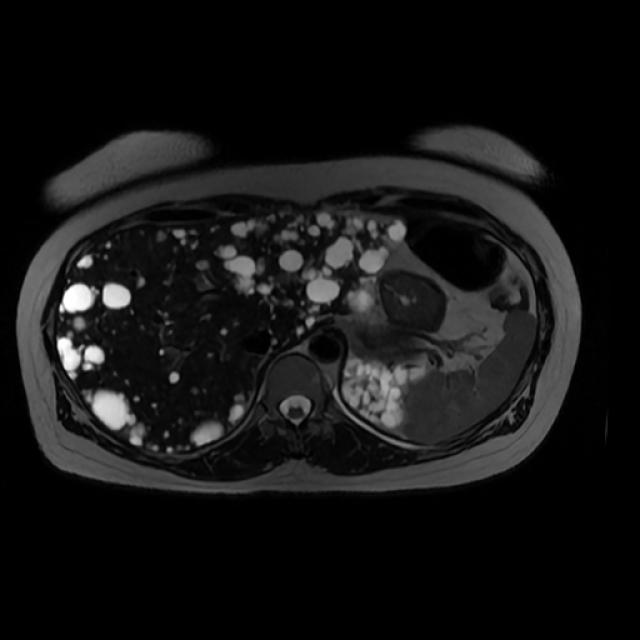sol: (342, 351, 425, 433)
